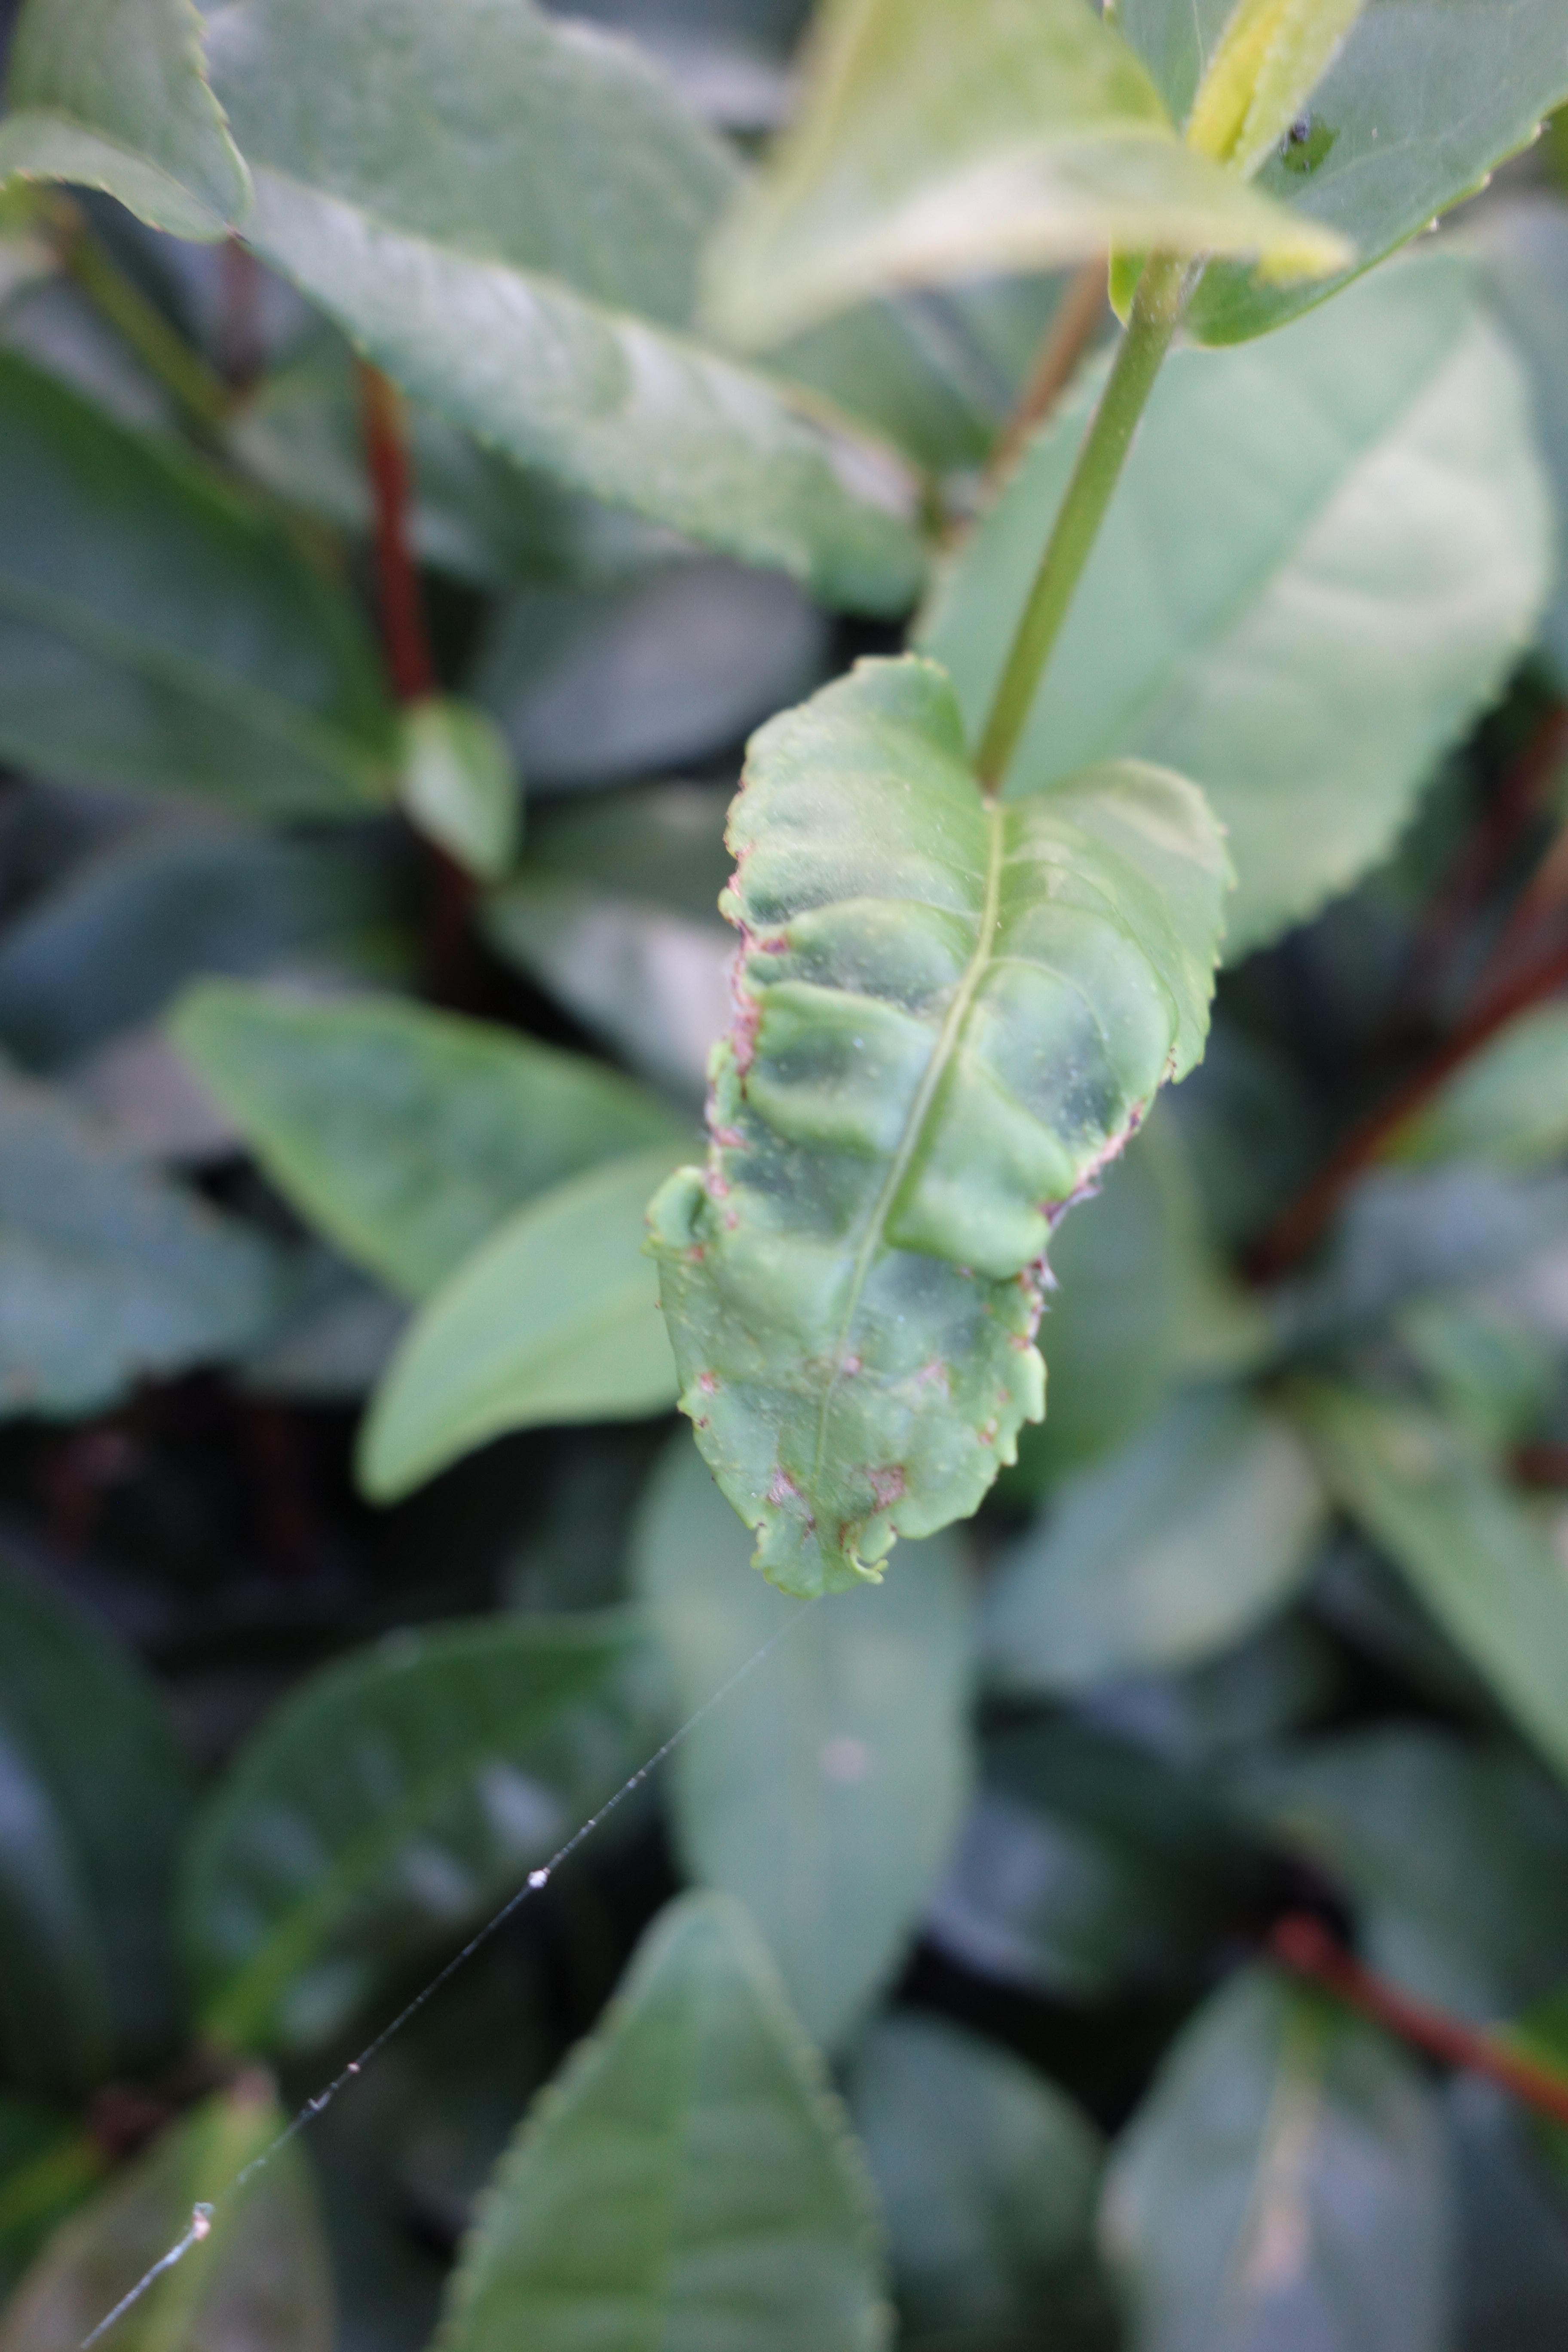chihuo_high: (642, 653, 1244, 1608)
